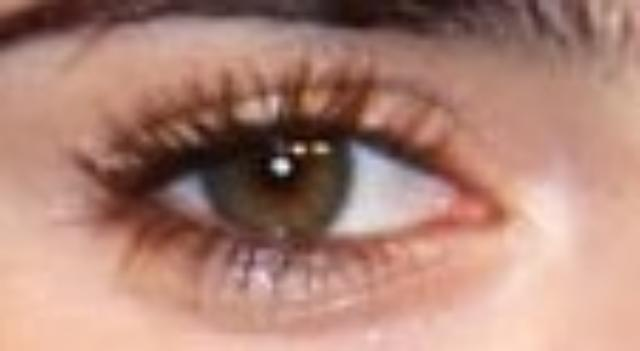eye: (190, 132, 358, 234)
